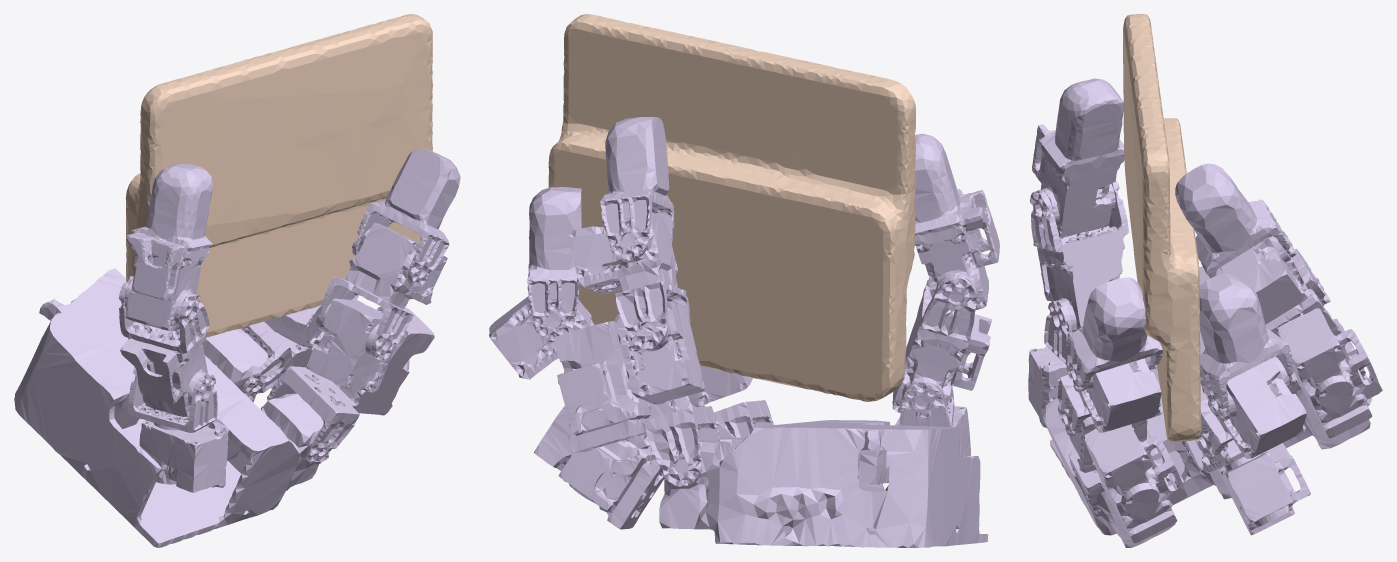
File: 63991fa285586d-closed.glb
The picture shows the model from 3 angles, left to right: view 1: azimuth 30°, elevation 25°; view 2: azimuth 150°, elevation 25°; view 3: azimuth 270°, elevation 25°; orthographic projection. The views are drawn at different scales.
Visible parts, largest first — view 1: LEAP_hand, world; view 2: LEAP_hand, world; view 3: LEAP_hand, world.
Boxes of the visible parts, bbox=[...] form: LEAP_hand: bbox=[14, 148, 460, 547]; world: bbox=[125, 14, 432, 338]; LEAP_hand: bbox=[489, 117, 999, 547]; world: bbox=[548, 14, 915, 401]; LEAP_hand: bbox=[1028, 78, 1382, 547]; world: bbox=[1123, 14, 1200, 442].
Bounding box in the file's own units: 0.1967 × 0.2127 × 0.1454.
